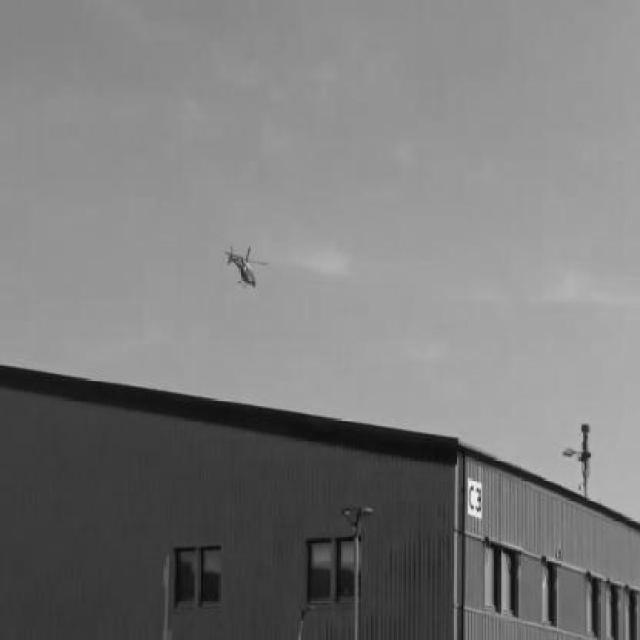helikopter: (220, 230, 274, 292)
